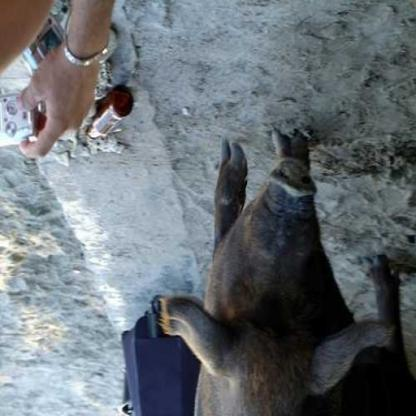boar: (144, 119, 381, 416)
